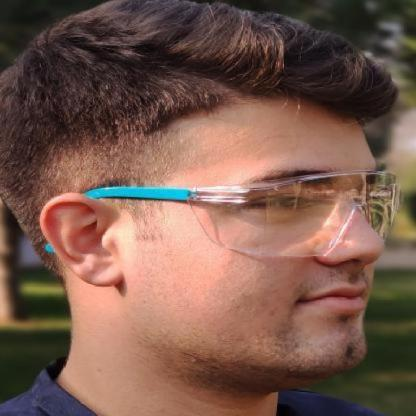oculos: (28, 167, 416, 279)
